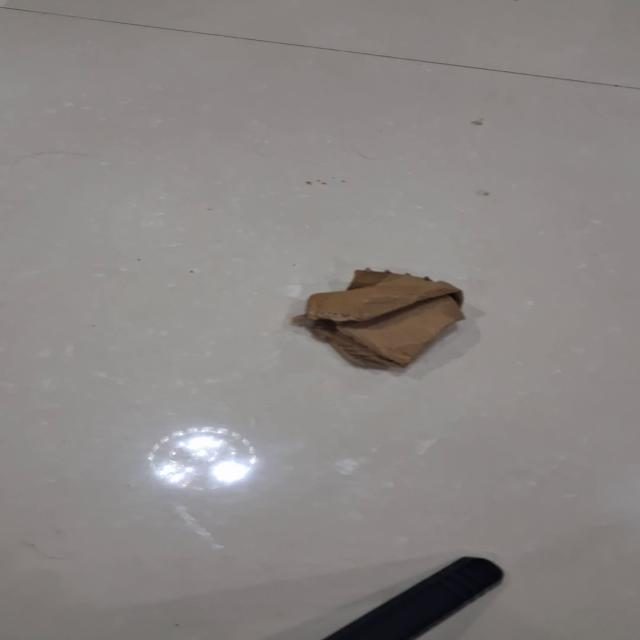paper: (293, 267, 466, 370)
